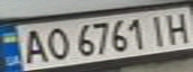1: (124, 16, 148, 50)
6: (72, 20, 96, 57), (109, 16, 133, 52)
7: (90, 19, 112, 55)
A: (18, 26, 51, 65)
H: (160, 9, 193, 45)
I: (145, 11, 172, 47)
O: (39, 25, 72, 62)
